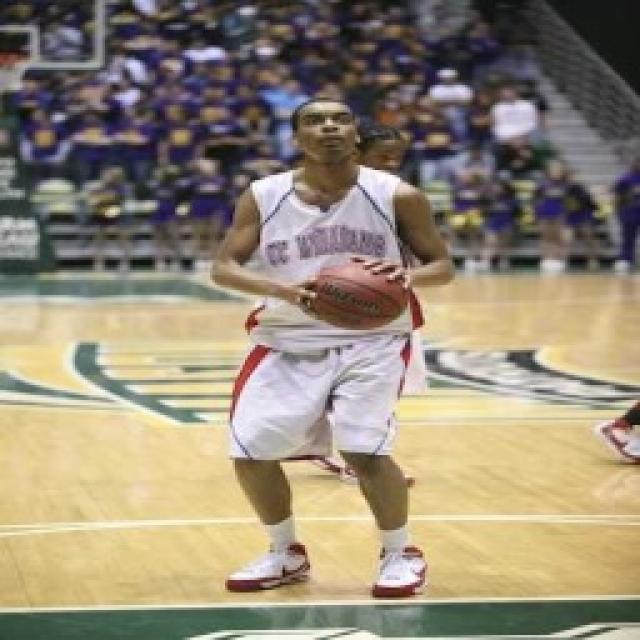rim: (302, 254, 414, 330)
